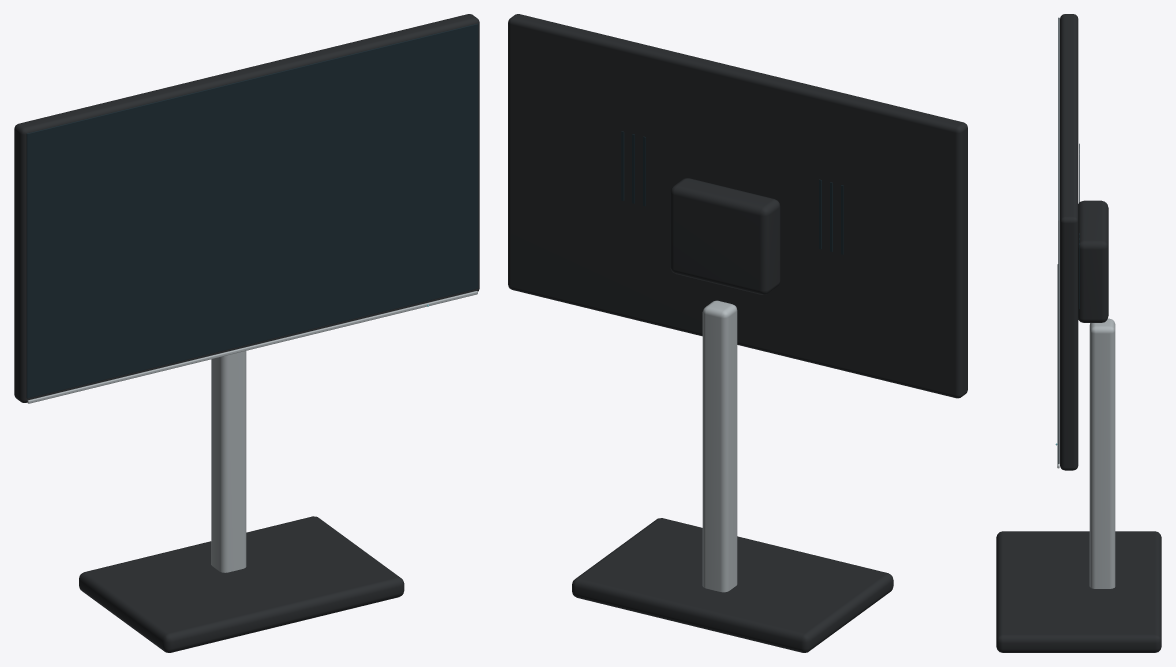
File: television.glb
3 views of the same model, side by side, from view 1: azimuth 30°, elevation 25°; view 2: azimuth 150°, elevation 25°; view 3: azimuth 270°, elevation 25° (orthographic). The views are drawn at different scales.
Visible parts, largest first — view 1: 家具_television; view 2: 家具_television; view 3: 家具_television.
Boxes of the visible parts, x1,y1,x2,y2 form: 家具_television: (14, 14, 479, 652); 家具_television: (508, 14, 967, 652); 家具_television: (996, 14, 1161, 652).
Size of the model in its own units: 1.24 by 1.36 by 0.42.
